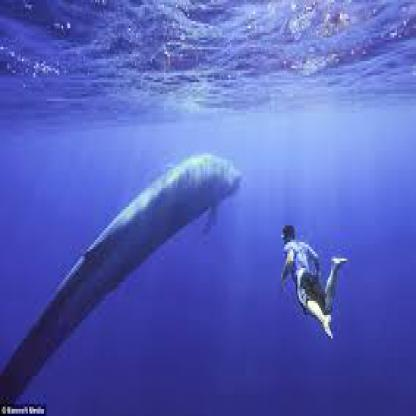blue_whale: (3, 136, 246, 376)
